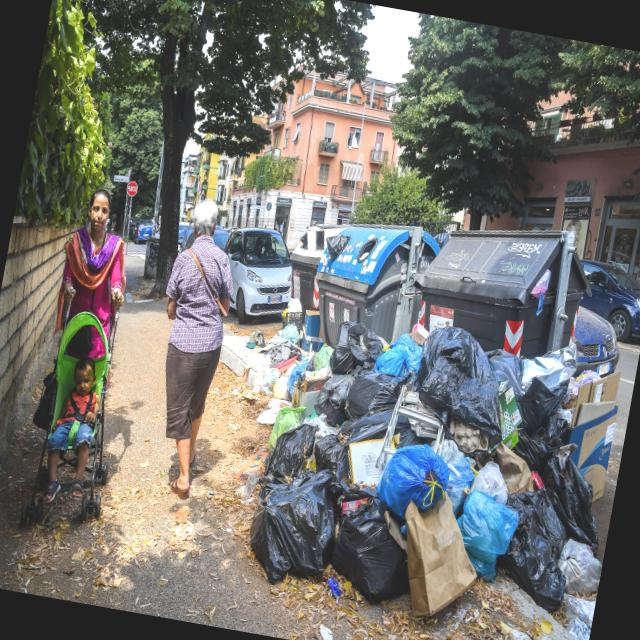garbage: (212, 160, 640, 640)
